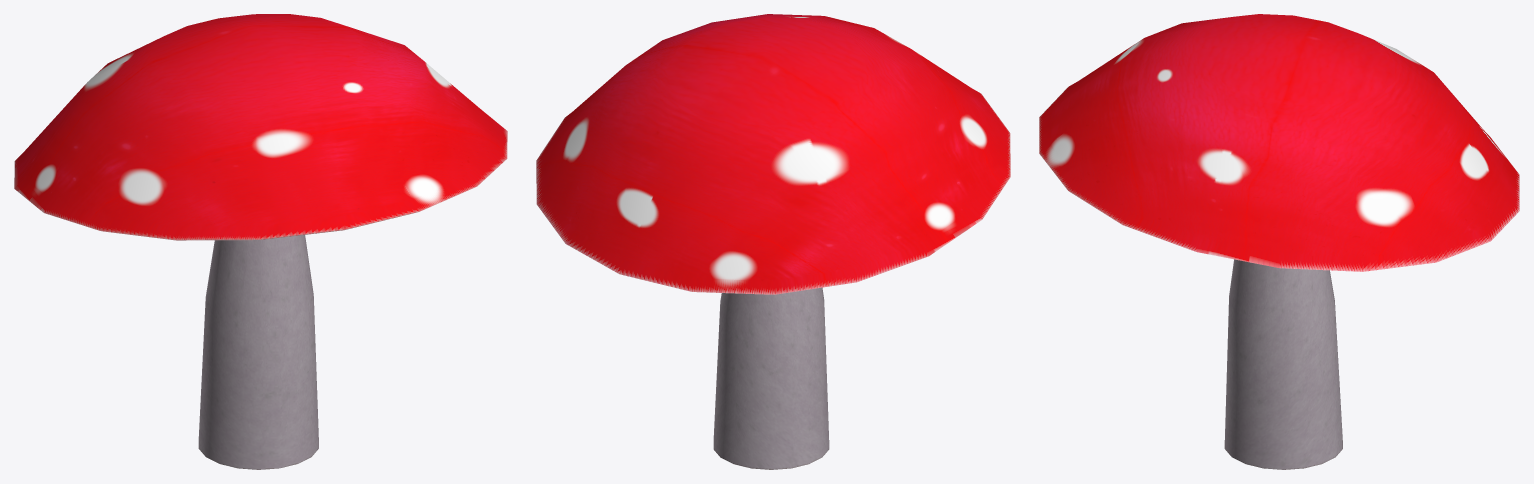
Rendered from PR_Champi.fbx.
3 views of the same model, side by side, from view 1: azimuth 30°, elevation 25°; view 2: azimuth 150°, elevation 25°; view 3: azimuth 270°, elevation 25° (orthographic). The views are drawn at different scales.
Visible parts, largest first — view 1: Champi; view 2: Champi; view 3: Champi.
Boxes of the visible parts, x1,y1,x2,y2 form: Champi: (14,14,507,469); Champi: (536,14,1010,469); Champi: (1039,14,1519,469).
Size of the model in its own units: 4.74 by 4.37 by 4.63.
1 material, 1 textured.
